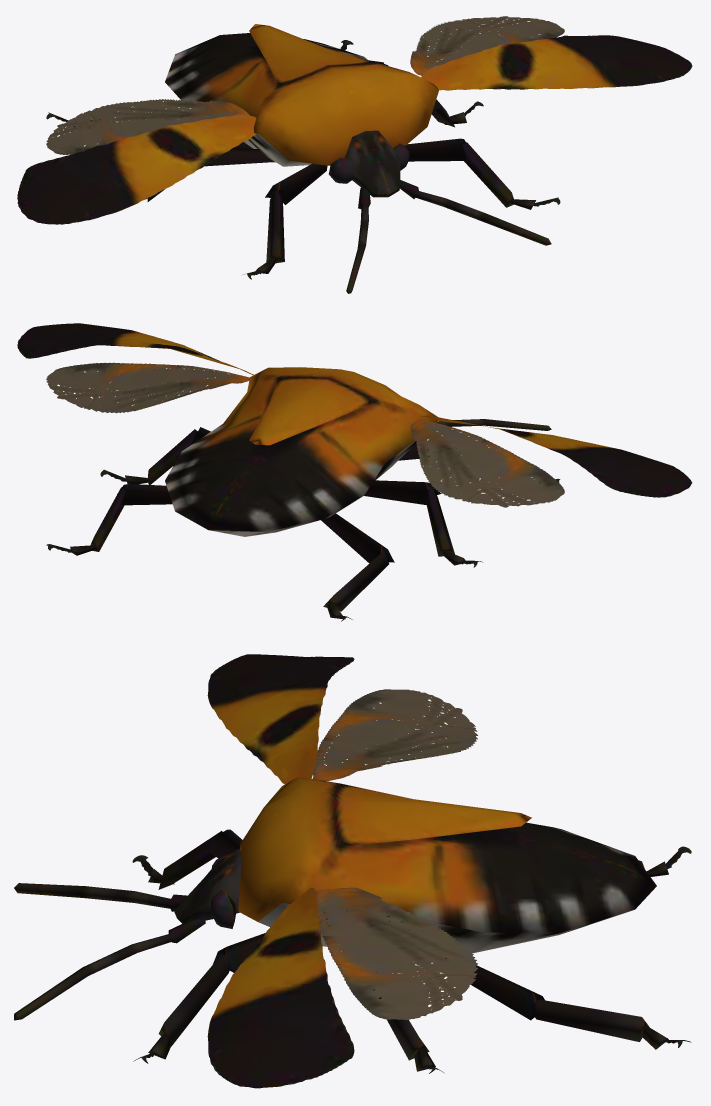
File: man-faced-stink-bug.glb
3 renders of one model, top to bottom at view 1: azimuth 30°, elevation 25°; view 2: azimuth 150°, elevation 25°; view 3: azimuth 270°, elevation 25°, orthographic. The views are drawn at different scales.
Size of the model in its own units: 6.75 by 1.23 by 4.5.
2 materials, 2 textured.
